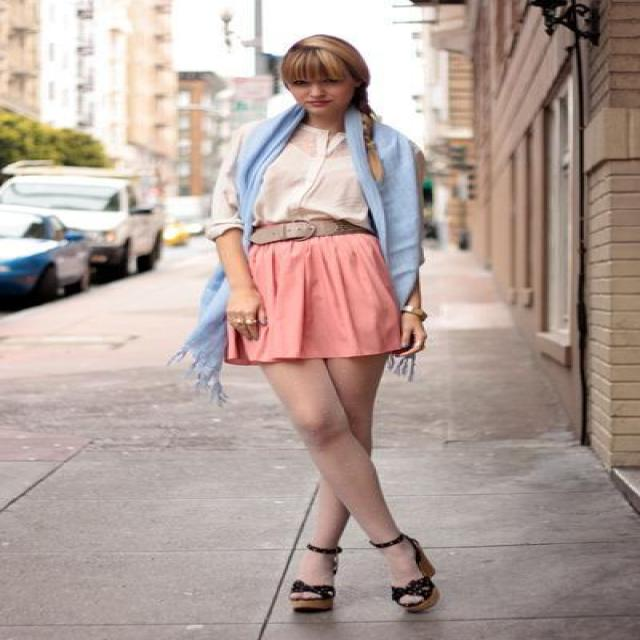shirt: (190, 127, 382, 242)
shoe: (291, 525, 437, 613)
skirt: (224, 234, 426, 370)
